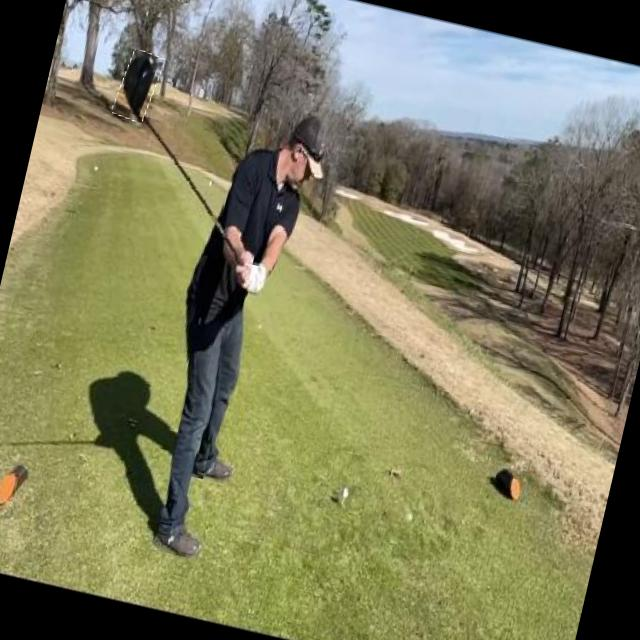club head: (112, 48, 164, 124)
